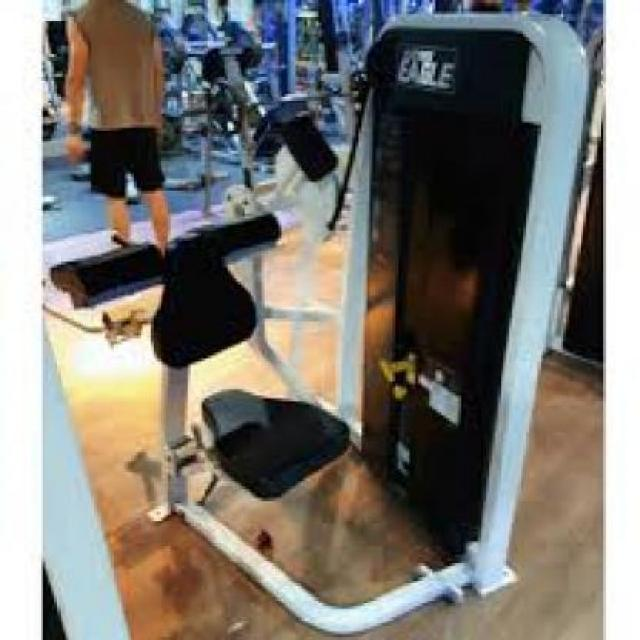arm curl machine: (52, 212, 566, 637)
